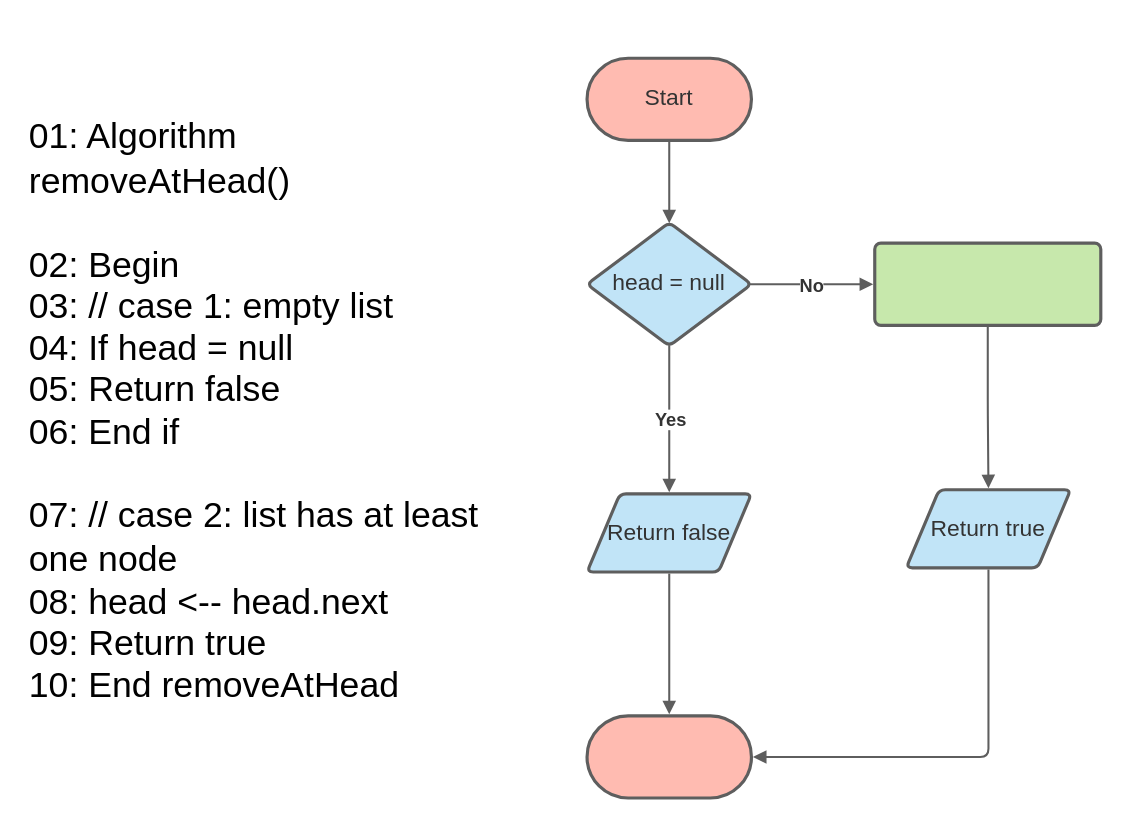
The diagram is 1126 pixels wide and 823 high, and some of its shapes have lost their labels. The shapes that lost their labels are listed below. From the top down, each one's box as (x1, y1, x2, y2) in pixels, then its label:
(873, 241, 1102, 326): head <- head.next
(585, 714, 752, 799): End
